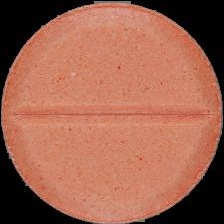0185-0043: (0, 0, 224, 224)
